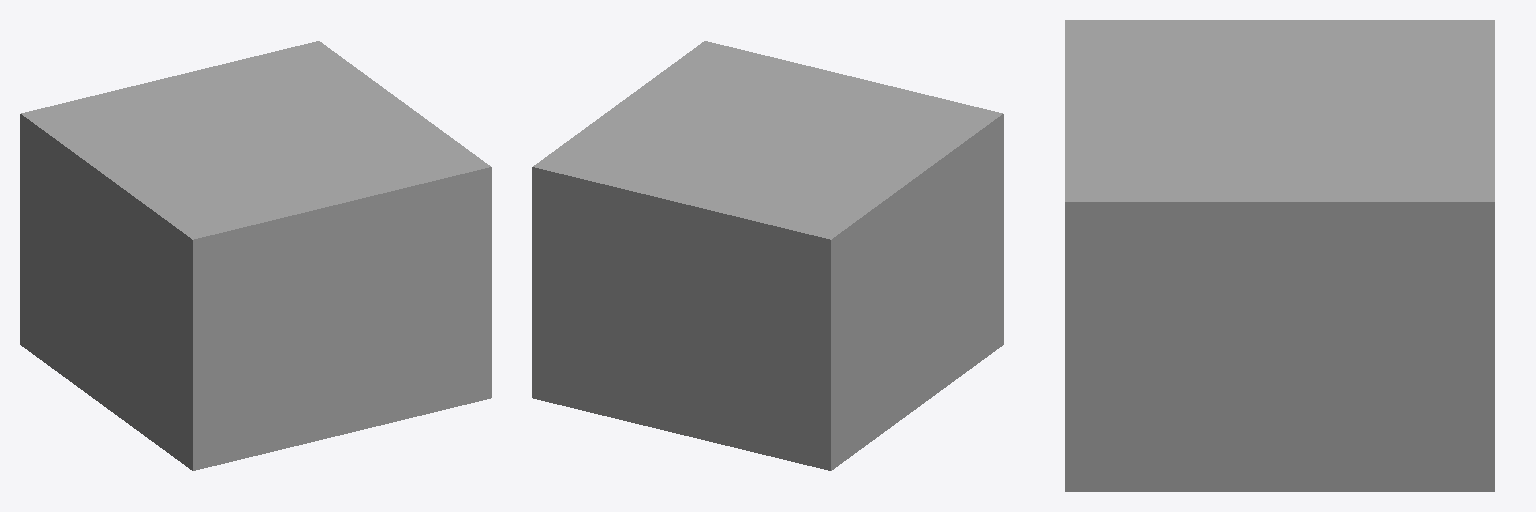
robot.urdf — box:
<?xml version="1.0"?>
<!-- Generated by make_models.py; extents match cuTAMP's ENTITIES cuboid. -->
<robot name="box">
  <link name="base_link">
    <inertial>
      <origin xyz="0 0 0"/>
      <mass value="0.5"/>
      <inertia ixx="0.0007526666666666667" ixy="0" ixz="0" iyy="0.0007526666666666667" iyz="0" izz="0.0009719999999999999"/>
    </inertial>
    <visual>
      <origin xyz="0 0 0"/>
      <geometry><box size="0.108 0.108 0.08"/></geometry>
      <material name="grey"><color rgba="0.7 0.7 0.7 1"/></material>
    </visual>
    <collision>
      <origin xyz="0 0 0"/>
      <geometry><box size="0.108 0.108 0.08"/></geometry>
    </collision>
  </link>
</robot>

--- What the picture shows (computed from the rendered views, not written in the file) ---
3 views of the same robot in one strip: view 1: azimuth 30°, elevation 25°; view 2: azimuth 150°, elevation 25°; view 3: azimuth 270°, elevation 25° (orthographic).
Model box with 1 links and 0 joints (none), rooted at base_link, posed all joints at 0.
Visible links, largest first — view 1: base_link; view 2: base_link; view 3: base_link.
Boxes of the visible links, x1=… form: base_link: x1=20, y1=41, x2=491, y2=470; base_link: x1=532, y1=41, x2=1003, y2=470; base_link: x1=1065, y1=20, x2=1494, y2=491.
Size in the robot's own frame: 0.108 by 0.108 by 0.08 metres.
Geometry: primitives only (box / cylinder / sphere), no mesh files.
